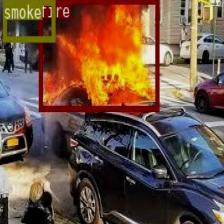fire: (38, 0, 158, 110)
smoke: (2, 0, 55, 41)
